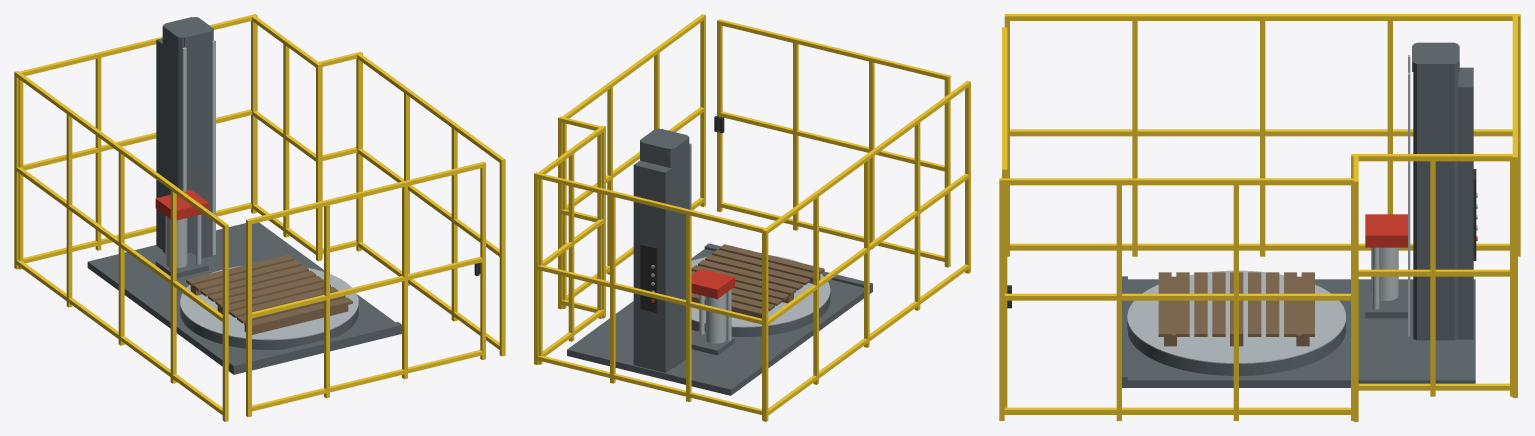
File: stretchadeira-raw.glb
3 renders of one model, left to right at view 1: azimuth 30°, elevation 25°; view 2: azimuth 150°, elevation 25°; view 3: azimuth 270°, elevation 25°, orthographic. The views are drawn at different scales.
Visible parts, largest first — view 1: base-1, tower-5, table-4, fence-35, fence-33, fence-34, table-3, gate-68, gate-66, gate-67, fence-65, fence-36 (+42 smaller); view 2: base-1, panel-14, tower-5, fence-35, fence-33, fence-34, table-4, gate-68, fence-43, fence-42, fence-41, gate-67 (+39 smaller); view 3: base-1, tower-5, table-4, panel-14, fence-35, fence-34, fence-33, fence-61, fence-59, fence-60, table-3, carriage-9 (+33 smaller).
Boxes of the visible parts, left/top/right/bottom form: base-1: left=87, top=222, right=401, bottom=374; tower-5: left=162, top=17, right=213, bottom=258; table-4: left=180, top=266, right=358, bottom=340; fence-35: left=16, top=72, right=228, bottom=229; fence-33: left=16, top=260, right=228, bottom=416; fence-34: left=16, top=167, right=228, bottom=323; table-3: left=180, top=305, right=358, bottom=349; gate-68: left=246, top=162, right=482, bottom=224; gate-66: left=246, top=350, right=482, bottom=412; gate-67: left=246, top=257, right=482, bottom=318; fence-65: left=499, top=158, right=505, bottom=356; fence-36: left=222, top=223, right=228, bottom=421; base-1: left=567, top=249, right=872, bottom=395; panel-14: left=633, top=160, right=671, bottom=372; tower-5: left=640, top=128, right=689, bottom=367; fence-35: left=765, top=80, right=970, bottom=233; fence-33: left=768, top=264, right=970, bottom=415; fence-34: left=768, top=173, right=970, bottom=324; table-4: left=691, top=255, right=830, bottom=327; gate-68: left=720, top=20, right=950, bottom=80; fence-43: left=537, top=173, right=765, bottom=232; fence-42: left=537, top=265, right=762, bottom=324; fence-41: left=537, top=355, right=762, bottom=415; gate-67: left=720, top=111, right=950, bottom=172; base-1: left=1122, top=279, right=1475, bottom=387; tower-5: left=1413, top=42, right=1458, bottom=340; table-4: left=1127, top=270, right=1345, bottom=363; panel-14: left=1457, top=67, right=1473, bottom=339; fence-35: left=1004, top=14, right=1515, bottom=20; fence-34: left=1007, top=129, right=1512, bottom=136; fence-33: left=1007, top=243, right=1509, bottom=250; fence-61: left=1004, top=178, right=1355, bottom=185; fence-59: left=1004, top=407, right=1353, bottom=414; fence-60: left=1004, top=293, right=1353, bottom=300; table-3: left=1127, top=319, right=1345, bottom=375; carriage-9: left=1365, top=214, right=1407, bottom=247.
Size of the model in its own units: 2.99 by 2.37 by 3.93.
